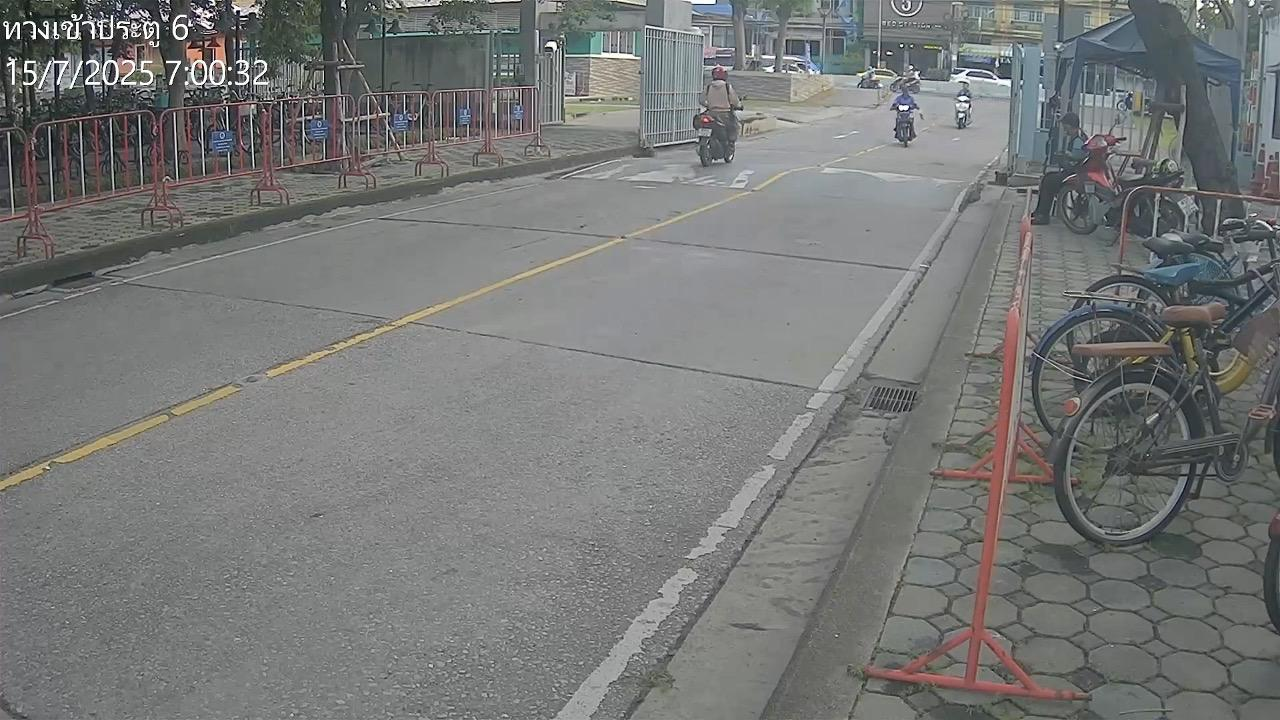With-Helmet: (712, 65, 727, 80)
